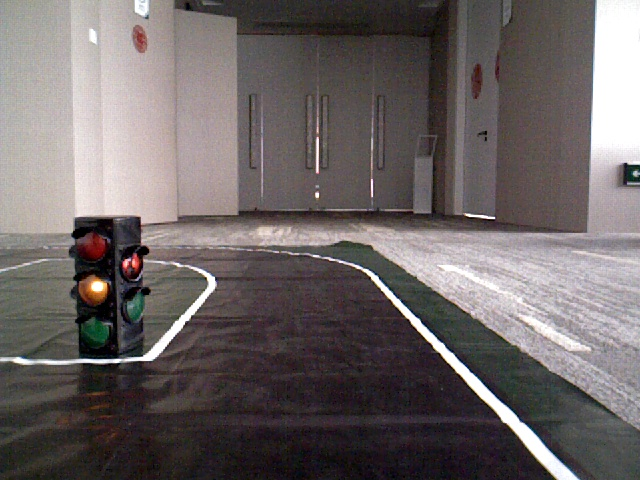yellow: (73, 219, 119, 346)
